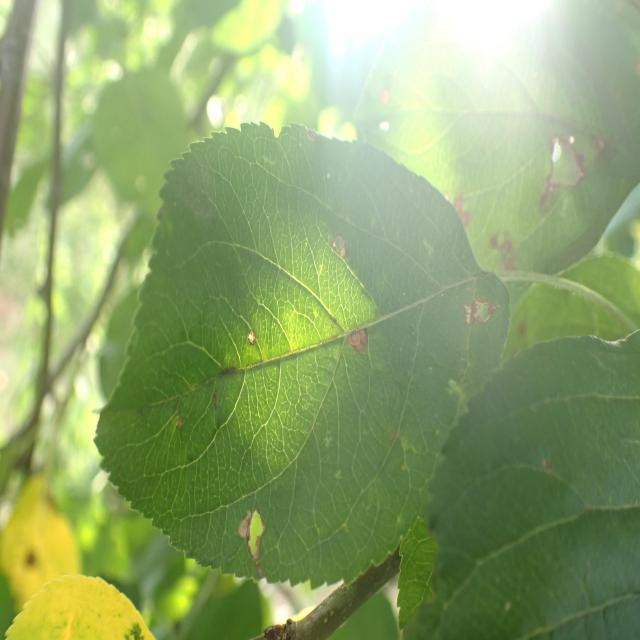frog-eye-leaf-spot: (92, 119, 512, 588)
